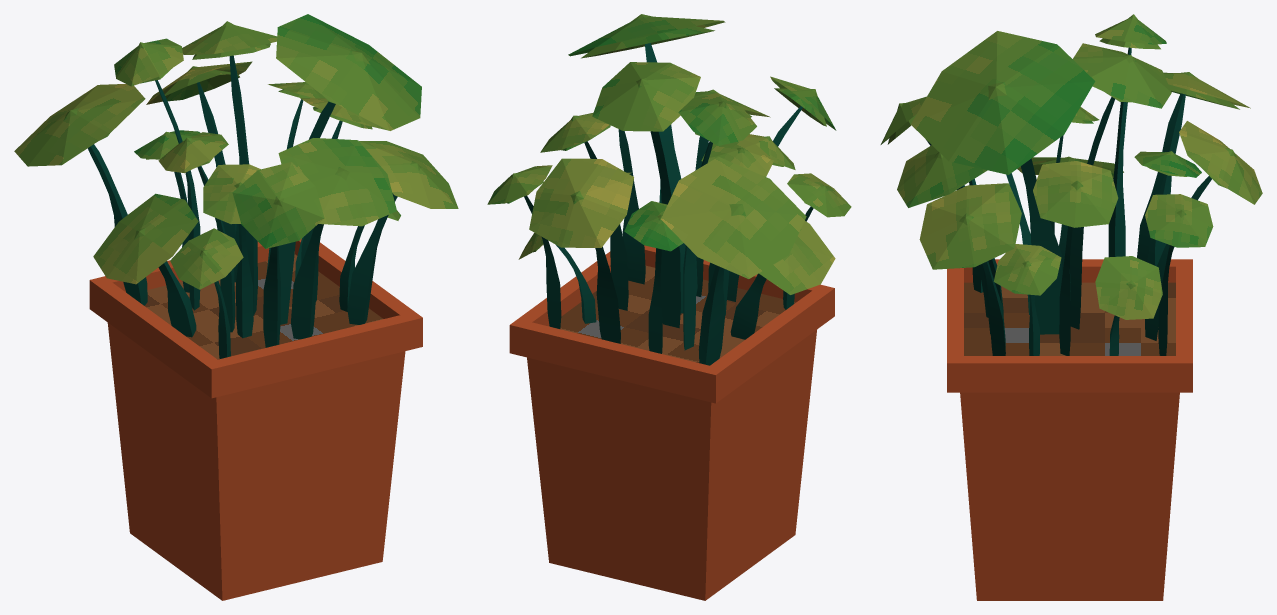
File: PotLillies_B.fbx
3 views of the same model, side by side, from view 1: azimuth 30°, elevation 25°; view 2: azimuth 150°, elevation 25°; view 3: azimuth 270°, elevation 25° (orthographic). The views are drawn at different scales.
Parts seen in each view (by area): view 1: Pot, PotLillies_B; view 2: Pot, PotLillies_B; view 3: PotLillies_B, Pot.
Part boxes in pixels (x1,y1,x2,y2): Pot: (89,238,422,600); PotLillies_B: (14,14,458,358); Pot: (509,245,834,600); PotLillies_B: (487,14,851,365); PotLillies_B: (880,14,1262,355); Pot: (947,259,1192,600).
Size of the model in its own units: 59.78 by 93.29 by 61.63.
2 materials, 2 textured.
